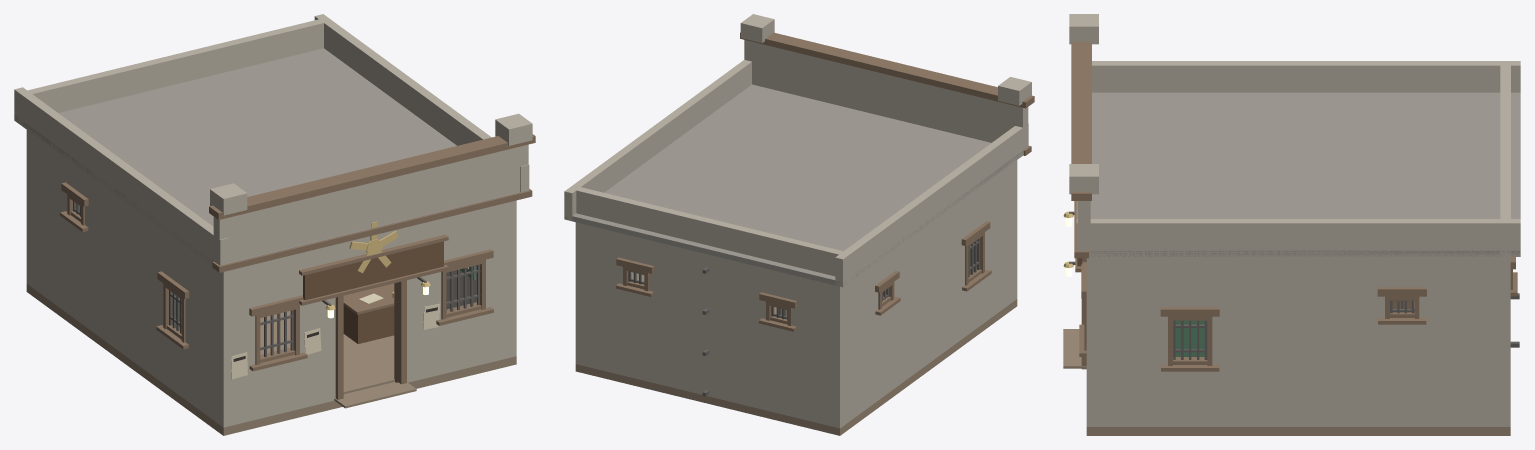
The model's file is jailhouse.glb.
3 views of the same model, side by side, from view 1: azimuth 30°, elevation 25°; view 2: azimuth 150°, elevation 25°; view 3: azimuth 270°, elevation 25° (orthographic). The views are drawn at different scales.
Parts seen in each view (by area): view 1: Bldg_Jail_geo; view 2: Bldg_Jail_geo; view 3: Bldg_Jail_geo.
Part boxes in pixels (x1,y1,x2,y2): Bldg_Jail_geo: [14, 14, 535, 435]; Bldg_Jail_geo: [564, 14, 1034, 435]; Bldg_Jail_geo: [1063, 14, 1520, 435].
Bounding box in the file's own units: 8 × 5.9 × 9.27.
